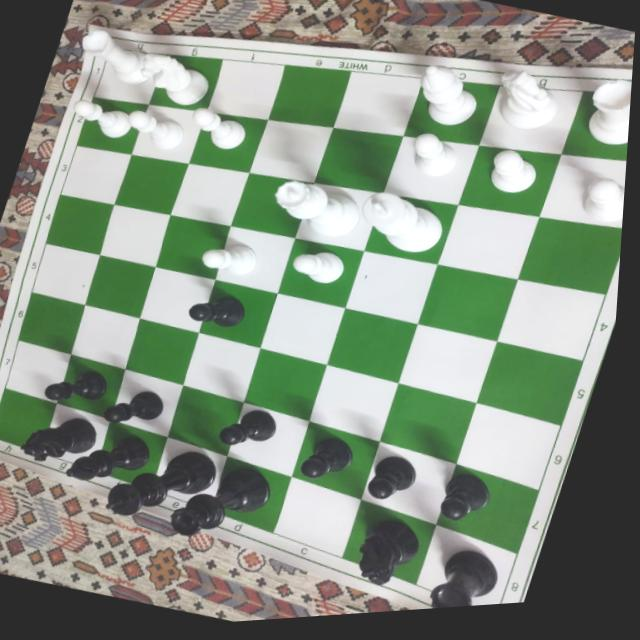board: (0, 28, 633, 610)
square: (455, 403, 561, 490), (436, 464, 538, 554), (475, 341, 583, 426), (496, 279, 604, 360), (416, 524, 517, 606), (517, 216, 622, 294), (341, 499, 436, 584), (360, 441, 456, 524), (379, 383, 476, 464), (398, 323, 496, 403), (417, 264, 517, 341), (437, 205, 539, 279), (458, 145, 561, 217), (273, 476, 361, 558), (478, 86, 582, 154), (291, 421, 380, 499), (309, 364, 398, 442), (326, 308, 417, 383), (344, 251, 437, 324), (363, 193, 458, 264), (383, 136, 479, 205), (403, 77, 499, 146), (538, 154, 626, 228), (210, 456, 291, 532), (226, 402, 309, 476), (294, 182, 383, 251), (260, 293, 345, 365), (277, 238, 364, 308), (243, 348, 326, 421), (332, 71, 423, 135), (314, 128, 403, 193), (150, 437, 227, 511), (182, 333, 260, 402), (198, 280, 277, 348), (214, 226, 294, 293), (231, 173, 313, 238), (167, 385, 243, 455), (249, 119, 332, 183), (268, 64, 351, 127), (94, 419, 167, 489), (170, 163, 249, 226), (110, 369, 183, 437), (124, 318, 199, 384), (139, 267, 215, 332), (560, 91, 631, 160), (155, 215, 230, 280), (189, 111, 267, 173), (205, 59, 284, 120), (41, 403, 110, 470), (113, 155, 188, 215), (56, 354, 125, 419), (70, 304, 139, 369), (84, 255, 155, 318), (99, 204, 170, 267), (131, 104, 206, 163), (17, 292, 85, 354), (60, 145, 131, 204), (76, 96, 148, 154), (148, 54, 221, 111), (5, 340, 71, 403), (31, 244, 99, 305), (45, 194, 114, 254), (93, 47, 165, 104), (0, 388, 57, 451)
